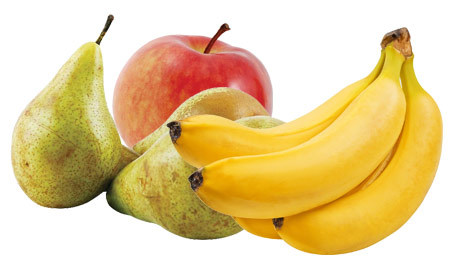apple: (113, 36, 276, 182)
banana: (188, 77, 412, 217), (280, 83, 452, 255), (172, 78, 395, 176)
